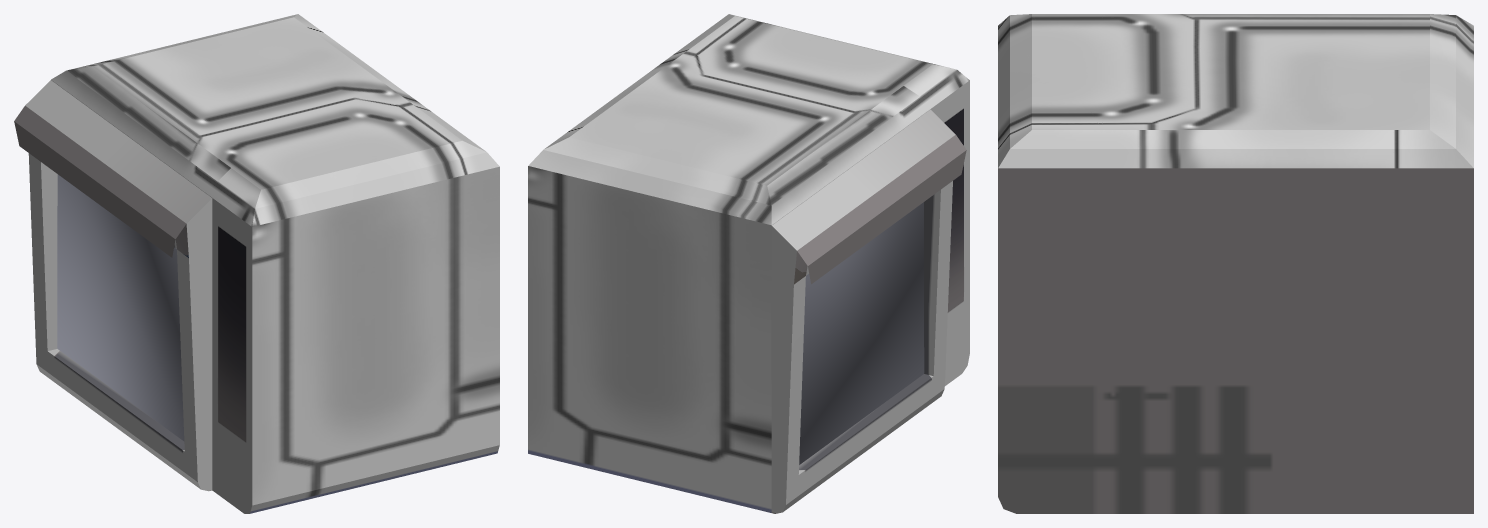
Rendered from Forno.fbx.
The picture shows the model from 3 angles, left to right: view 1: azimuth 30°, elevation 25°; view 2: azimuth 150°, elevation 25°; view 3: azimuth 270°, elevation 25°; orthographic projection. The views are drawn at different scales.
Visible parts, largest first — view 1: forno, Porta; view 2: forno, Porta; view 3: forno.
Boxes of the visible parts, box(x1,y1,x2,y2) form: forno: box(51, 14, 499, 513); Porta: box(14, 80, 212, 491); forno: box(528, 14, 969, 512); Porta: box(771, 109, 966, 513); forno: box(998, 14, 1473, 513).
Size of the model in its own units: 466 by 491 by 571.
